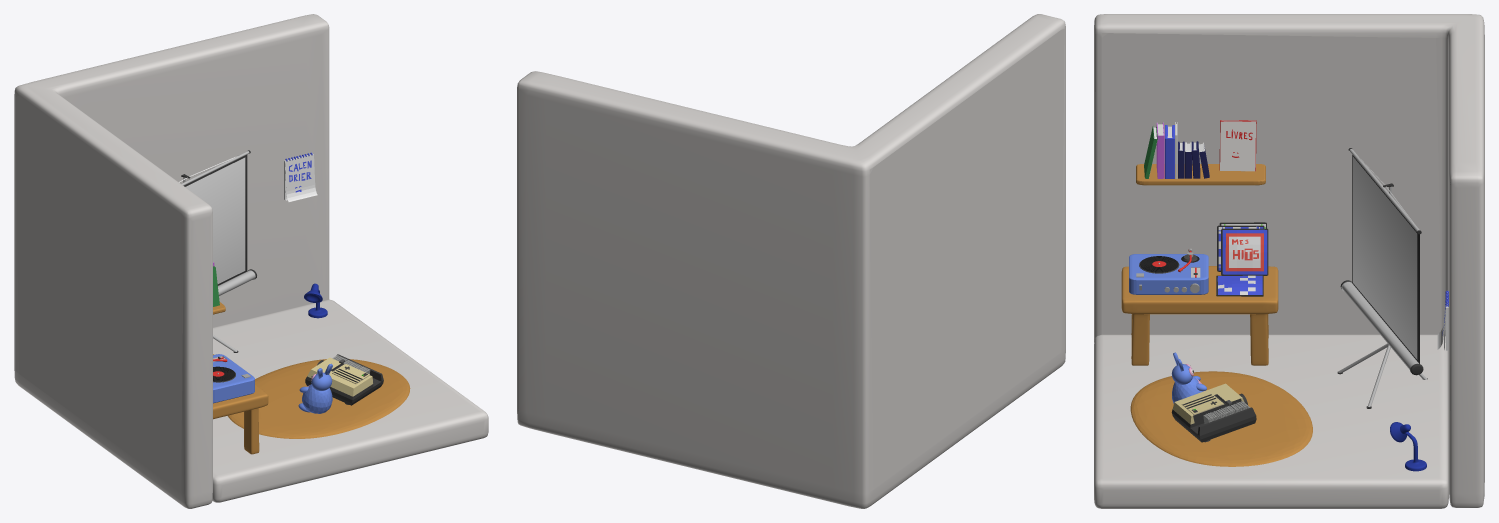
File: projection_room_3.glb
The picture shows the model from 3 angles, left to right: view 1: azimuth 30°, elevation 25°; view 2: azimuth 150°, elevation 25°; view 3: azimuth 270°, elevation 25°; orthographic projection. The views are drawn at different scales.
Visible parts, largest first — view 1: walls, floor, rug, screen, projector, table, turntable, calendar, rabbit; view 2: walls; view 3: walls, floor, screen, rug, bookshelf, table, turntable, projector, record_2, record_3, rabbit, lamp.
Boxes of the visible parts, box(x1,y1,x2,y2) form: walls: box(14, 14, 329, 508); floor: box(212, 299, 488, 502); rug: box(228, 359, 410, 438); screen: box(179, 150, 256, 352); projector: box(305, 354, 383, 405); table: box(213, 354, 268, 454); turntable: box(213, 354, 254, 403); calendar: box(284, 152, 317, 201); rabbit: box(298, 363, 332, 413); walls: box(517, 14, 1065, 508); walls: box(1094, 14, 1484, 507); floor: box(1094, 334, 1448, 508); screen: box(1337, 148, 1427, 408); rug: box(1130, 371, 1312, 466); bookshelf: box(1136, 120, 1265, 185); table: box(1121, 266, 1278, 365); turntable: box(1129, 248, 1208, 294); projector: box(1171, 383, 1256, 442); record_2: box(1221, 228, 1268, 275); record_3: box(1216, 275, 1263, 296); rabbit: box(1171, 352, 1206, 403); lamp: box(1390, 422, 1426, 471).
Size of the model in its own units: 3.3 by 3.12 by 3.3.
